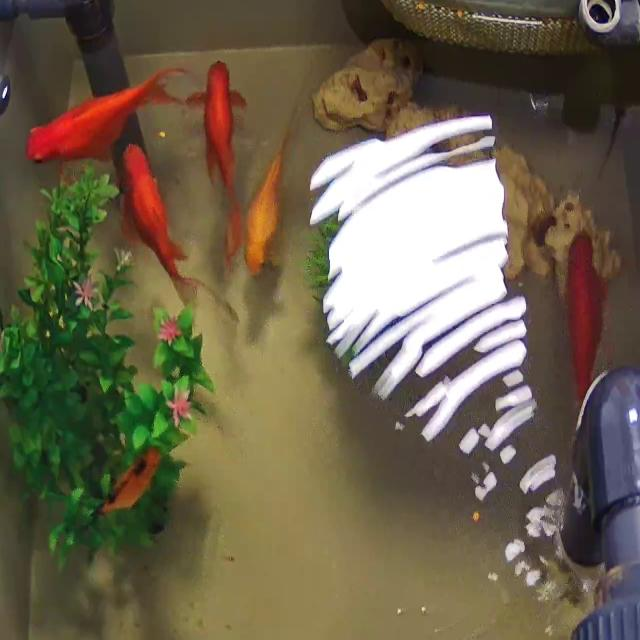fish: (25, 61, 194, 167), (118, 140, 211, 309), (200, 56, 244, 272), (565, 230, 613, 412), (244, 134, 290, 278), (98, 447, 162, 516)
